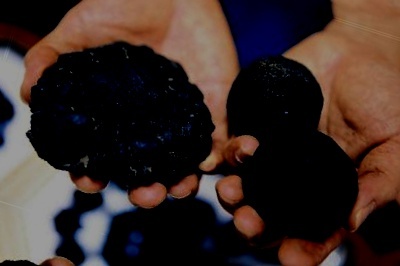halobolite: (3, 12, 237, 214), (245, 127, 353, 244), (229, 52, 323, 147)
